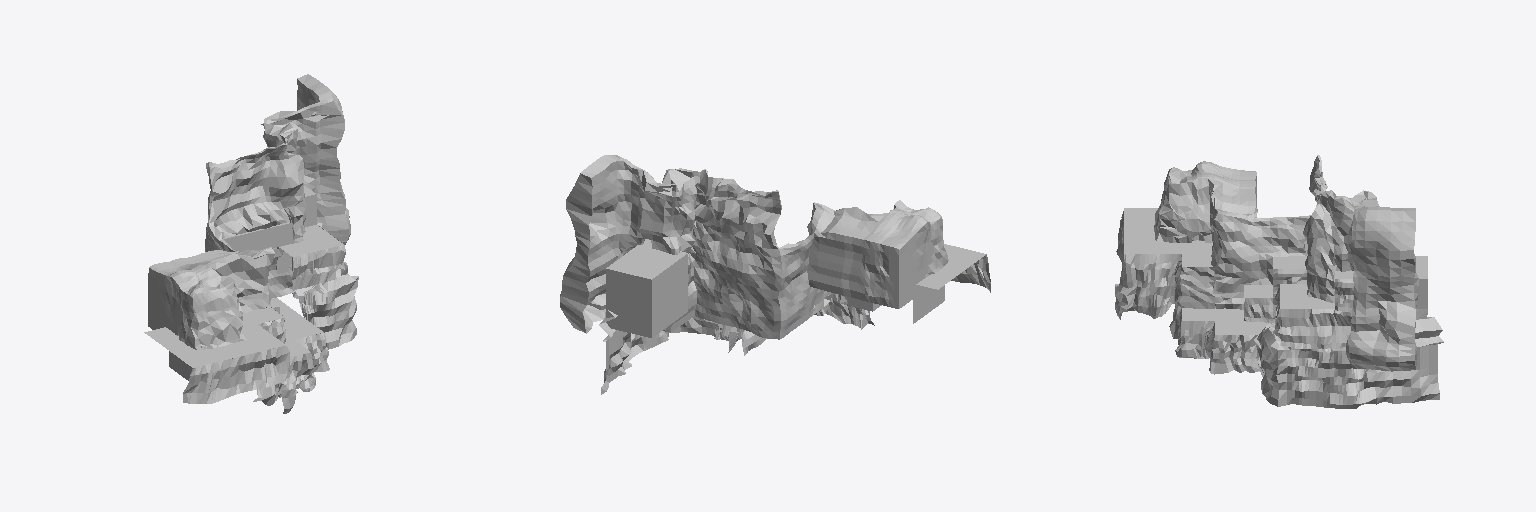
File: Tutorial1.obj
3 views of the same model, side by side, from view 1: azimuth 30°, elevation 25°; view 2: azimuth 150°, elevation 25°; view 3: azimuth 270°, elevation 25° (orthographic).
Visible parts, largest first — view 1: Cube.001_Cube.003, Cube_Cube.002, Cube.002_Cube.004; view 2: Cube.001_Cube.003, Cube.002_Cube.004, Cube_Cube.002; view 3: Cube.001_Cube.003, Cube_Cube.002, Cube.002_Cube.004.
Part boxes in pixels (x1,y1,x2,y2): Cube.001_Cube.003: (148,74,350,349); Cube_Cube.002: (183,187,358,413); Cube.002_Cube.004: (144,186,343,380); Cube.001_Cube.003: (560,155,948,339); Cube.002_Cube.004: (606,239,985,337); Cube_Cube.002: (599,246,990,394); Cube.001_Cube.003: (1154,155,1419,371); Cube_Cube.002: (1115,211,1443,408); Cube.002_Cube.004: (1124,208,1427,334).
Bounding box in the file's own units: 25.25 × 17.03 × 24.33.